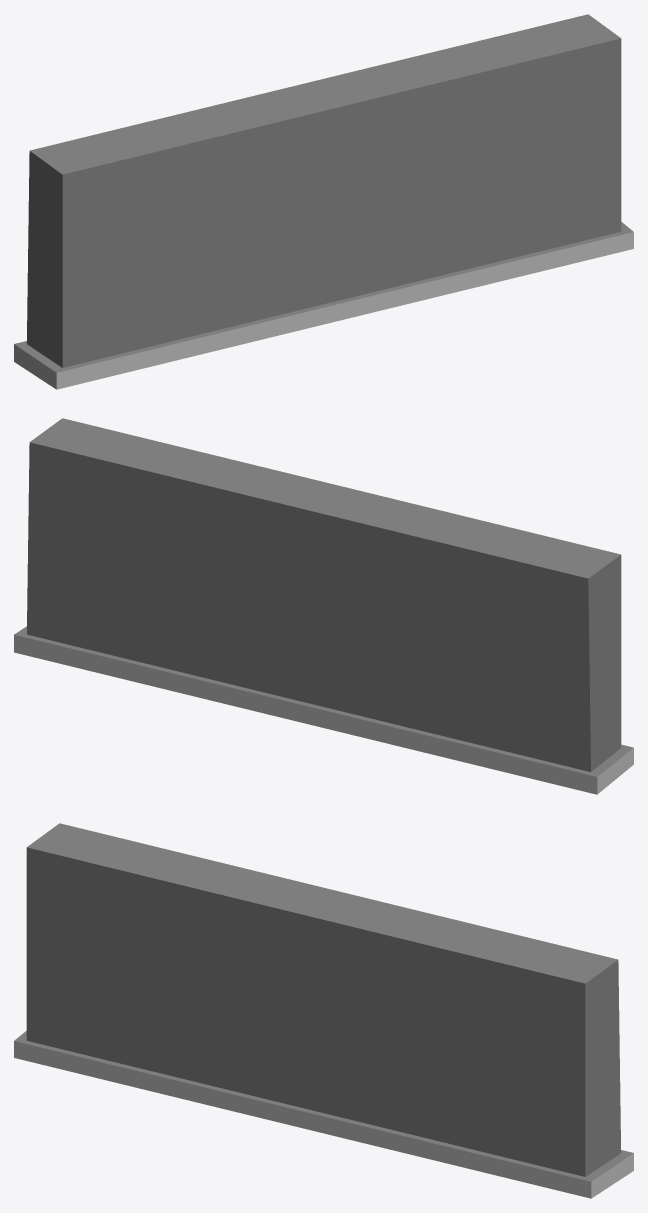
The model's file is Wall.FBX.
3 renders of one model, top to bottom at view 1: azimuth 30°, elevation 25°; view 2: azimuth 150°, elevation 25°; view 3: azimuth 330°, elevation 25°, orthographic.
Parts seen in each view (by area): view 1: Rectangle001; view 2: Rectangle001; view 3: Rectangle001.
Part boxes in pixels (box(x1,y1,x2,y2)): Rectangle001: box(14, 14, 633, 389); Rectangle001: box(14, 418, 633, 794); Rectangle001: box(14, 823, 633, 1198).
Size of the model in its own units: 229 by 78.91 by 26.98.
Materials: 1 (1 with a texture image).
